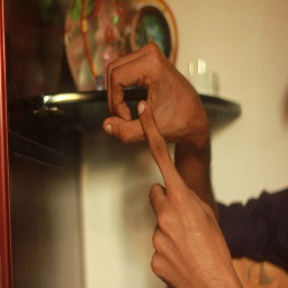Q: (96, 41, 206, 240)
